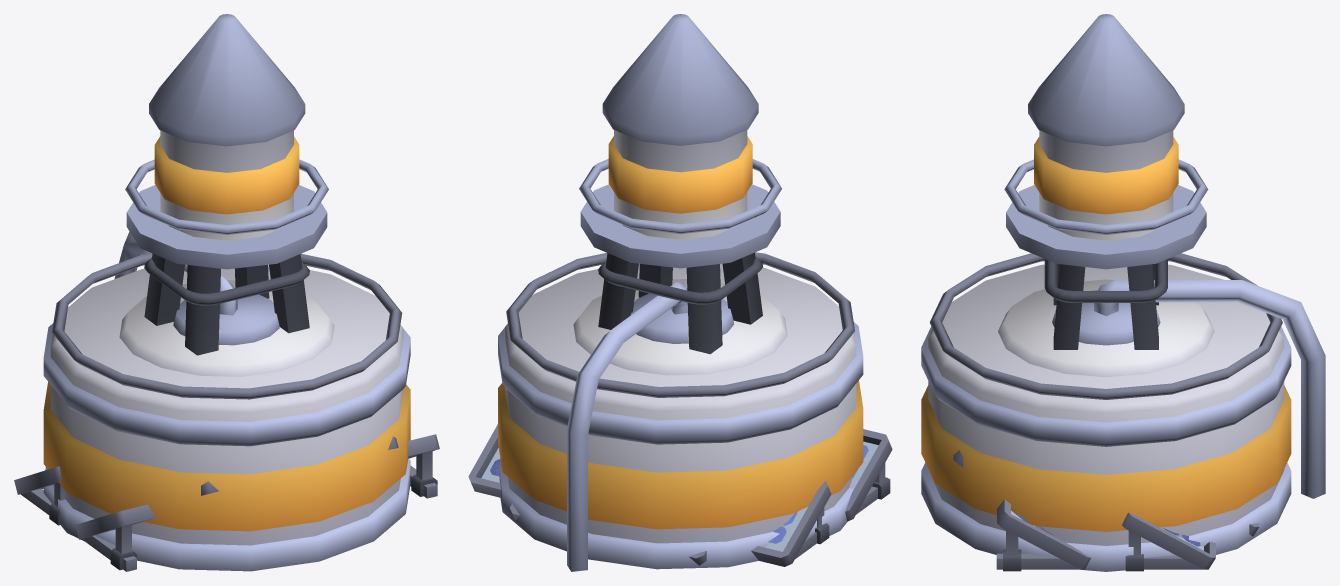
File: ind.glb
The picture shows the model from 3 angles, left to right: view 1: azimuth 30°, elevation 25°; view 2: azimuth 150°, elevation 25°; view 3: azimuth 270°, elevation 25°; orthographic projection.
Visible parts, largest first — view 1: detail-tank-large, water-tower, solar-panel-landscape-group; view 2: detail-tank-large, water-tower, solar-panel-landscape-group; view 3: detail-tank-large, water-tower, solar-panel-landscape-group.
Boxes of the visible parts, x1=… form: detail-tank-large: x1=43, y1=231, x2=410, y2=571; water-tower: x1=125, y1=14, x2=328, y2=355; solar-panel-landscape-group: x1=14, y1=434, x2=439, y2=571; detail-tank-large: x1=498, y1=252, x2=863, y2=571; water-tower: x1=579, y1=14, x2=781, y2=354; solar-panel-landscape-group: x1=468, y1=424, x2=892, y2=566; detail-tank-large: x1=921, y1=253, x2=1325, y2=571; water-tower: x1=1004, y1=14, x2=1208, y2=349; solar-panel-landscape-group: x1=996, y1=499, x2=1215, y2=571.
Bounding box in the file's own units: 1.51 × 2.14 × 1.65.
1 material, 1 textured.
